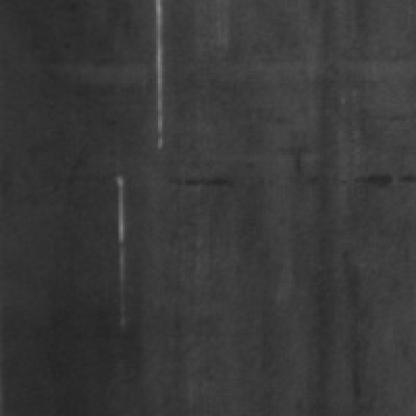scratches: (106, 175, 127, 333), (146, 4, 166, 156)
